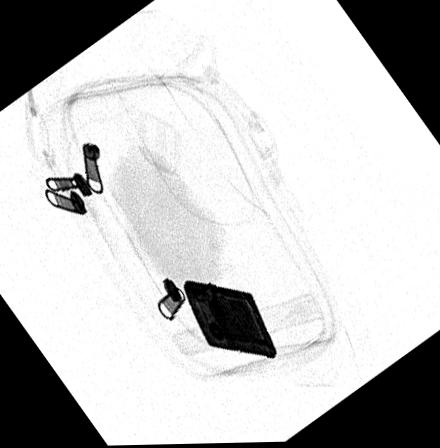Lighter: (180, 277, 278, 359)
